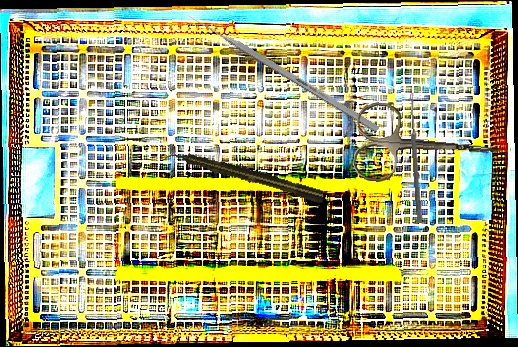Handpiece: (163, 144, 328, 206)
Iris Scissors: (351, 99, 507, 193)
Pusher: (184, 11, 381, 133)
Surgical Spoon: (407, 92, 424, 224)
